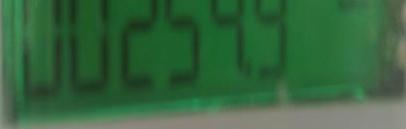0: (244, 61, 252, 75)
1: (17, 0, 64, 96), (67, 0, 112, 94)
3: (121, 0, 159, 91)
5: (208, 0, 246, 73)
6: (163, 0, 202, 84)
:: (252, 0, 289, 78)
